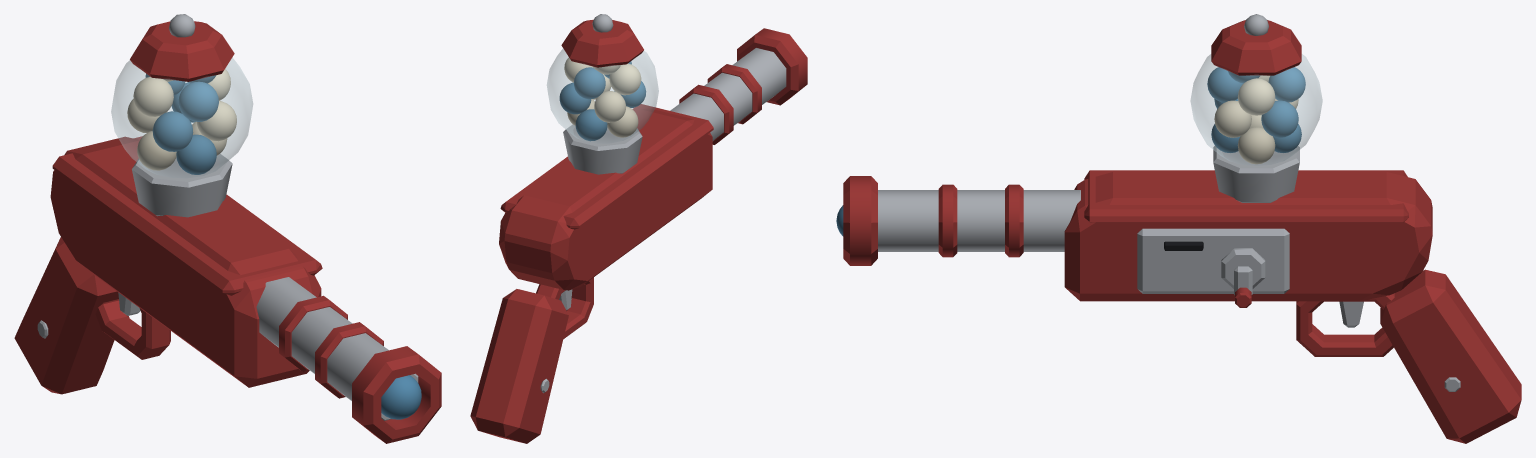
Rendered from w_marbles@marbles_gumball.glb.
3 views of the same model, side by side, from view 1: azimuth 30°, elevation 25°; view 2: azimuth 150°, elevation 25°; view 3: azimuth 270°, elevation 25° (orthographic). The views are drawn at different scales.
Parts seen in each view (by area): view 1: body_wzA__red__p983230, marbles_jar_wzN__jar__gd6eef640, grip_wzA__red__p983230, barrel_wzA__red__p983230, body_wzN__red__p983230, barrel_wzB__chrome__pa7abb1, lid_wzN__red__p983230, funnel_wzN__chrome__pa7abb1, guard_wzN__red__p983230, chute_wzN__m2__p4f84a6, marble_07_wzN__m2__p4f84a6, marble_11_wzN__m2__p4f84a6 (+6 smaller); view 2: body_wzA__red__p983230, grip_wzA__red__p983230, marbles_jar_wzN__jar__gd6eef640, barrel_wzA__red__p983230, barrel_wzB__chrome__pa7abb1, body_wzN__red__p983230, lid_wzN__red__p983230, funnel_wzN__chrome__pa7abb1, guard_wzN__red__p983230, marble_04_wzN__m1__pd8ceb6, marble_09_wzN__m2__p4f84a6, marble_08_wzN__m1__pd8ceb6 (+4 smaller); view 3: body_wzA__red__p983230, grip_wzA__red__p983230, marbles_jar_wzN__jar__gd6eef640, barrel_wzB__chrome__pa7abb1, coin_wzN__chrome__pa7abb1, body_wzN__red__p983230, barrel_wzA__red__p983230, lid_wzN__red__p983230, funnel_wzN__chrome__pa7abb1, guard_wzN__red__p983230, crank_wzN__chrome__pa7abb1, marble_10_wzN__m1__pd8ceb6 (+5 smaller).
Part boxes in pixels (left/top/right/bottom): body_wzA__red__p983230: left=50, top=136, right=321, bottom=387; marbles_jar_wzN__jar__gd6eef640: left=111, top=57, right=252, bottom=177; grip_wzA__red__p983230: left=14, top=237, right=118, bottom=394; barrel_wzA__red__p983230: left=279, top=295, right=441, bottom=443; body_wzN__red__p983230: left=52, top=136, right=322, bottom=295; barrel_wzB__chrome__pa7abb1: left=256, top=277, right=418, bottom=420; lid_wzN__red__p983230: left=130, top=21, right=234, bottom=81; funnel_wzN__chrome__pa7abb1: left=132, top=154, right=232, bottom=217; guard_wzN__red__p983230: left=95, top=299, right=170, bottom=359; chute_wzN__m2__p4f84a6: left=381, top=375, right=421, bottom=419; marble_07_wzN__m2__p4f84a6: left=152, top=111, right=193, bottom=151; marble_11_wzN__m2__p4f84a6: left=178, top=81, right=218, bottom=121; body_wzA__red__p983230: left=499, top=108, right=712, bottom=290; grip_wzA__red__p983230: left=470, top=289, right=568, bottom=443; marbles_jar_wzN__jar__gd6eef640: left=547, top=49, right=658, bottom=143; barrel_wzA__red__p983230: left=679, top=28, right=807, bottom=144; barrel_wzB__chrome__pa7abb1: left=670, top=48, right=786, bottom=140; body_wzN__red__p983230: left=500, top=104, right=713, bottom=229; lid_wzN__red__p983230: left=561, top=19, right=643, bottom=67; funnel_wzN__chrome__pa7abb1: left=563, top=124, right=642, bottom=174; guard_wzN__red__p983230: left=536, top=277, right=593, bottom=338; marble_04_wzN__m1__pd8ceb6: left=594, top=91, right=626, bottom=122; marble_09_wzN__m2__p4f84a6: left=574, top=67, right=605, bottom=99; marble_08_wzN__m1__pd8ceb6: left=609, top=63, right=641, bottom=95; body_wzA__red__p983230: left=1064, top=172, right=1432, bottom=301; grip_wzA__red__p983230: left=1380, top=269, right=1521, bottom=443; marbles_jar_wzN__jar__gd6eef640: left=1190, top=54, right=1322, bottom=165; barrel_wzB__chrome__pa7abb1: left=878, top=190, right=1080, bottom=251; coin_wzN__chrome__pa7abb1: left=1137, top=228, right=1289, bottom=293; body_wzN__red__p983230: left=1084, top=170, right=1408, bottom=222; barrel_wzA__red__p983230: left=843, top=176, right=1023, bottom=265; lid_wzN__red__p983230: left=1211, top=20, right=1301, bottom=75; funnel_wzN__chrome__pa7abb1: left=1213, top=146, right=1299, bottom=202; guard_wzN__red__p983230: left=1296, top=293, right=1394, bottom=356; crank_wzN__chrome__pa7abb1: left=1221, top=248, right=1265, bottom=294; marble_10_wzN__m1__pd8ceb6: left=1238, top=78, right=1275, bottom=115.
Bounding box in the file's own units: 0.112 × 0.3508 × 0.5174.
